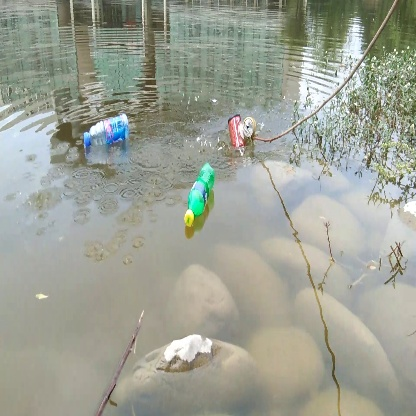bottle: (180, 163, 216, 226), (82, 112, 133, 150), (226, 111, 247, 152)
